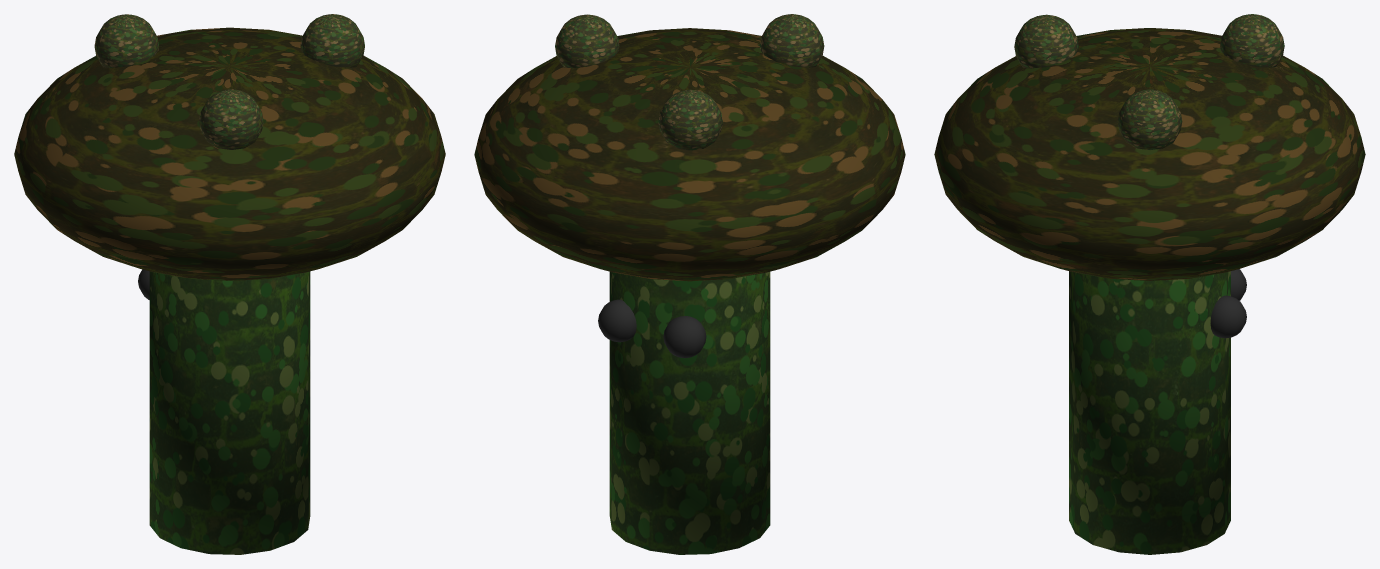
File: mandrake.glb
3 views of the same model, side by side, from view 1: azimuth 30°, elevation 25°; view 2: azimuth 150°, elevation 25°; view 3: azimuth 270°, elevation 25° (orthographic).
Parts seen in each view (by area): view 1: Cap, Stem, Spot.002, Spot.001, Spot; view 2: Cap, Stem, Spot.001, Spot, Spot.002, Eye, Eye.001; view 3: Cap, Stem, Spot, Spot.002, Spot.001, Eye.001.
Boxes of the visible parts, box(x1,y1,x2,y2) form: Cap: box(14, 27, 445, 280); Stem: box(149, 271, 310, 554); Spot.002: box(199, 89, 263, 149); Spot.001: box(94, 14, 159, 67); Spot: box(300, 14, 364, 67); Cap: box(474, 28, 905, 281); Stem: box(609, 272, 770, 554); Spot.001: box(658, 89, 722, 150); Spot: box(555, 14, 619, 68); Spot.002: box(759, 14, 824, 67); Eye: box(663, 316, 706, 358); Eye.001: box(598, 299, 636, 342); Cap: box(934, 28, 1365, 280); Stem: box(1069, 271, 1230, 554); Spot: box(1117, 89, 1182, 149); Spot.002: box(1014, 14, 1078, 68); Spot.001: box(1220, 14, 1284, 67); Eye.001: box(1210, 295, 1246, 338).
Bounding box in the file's own units: 0.8163 × 1 × 0.8163.
6 materials, 5 textured.
